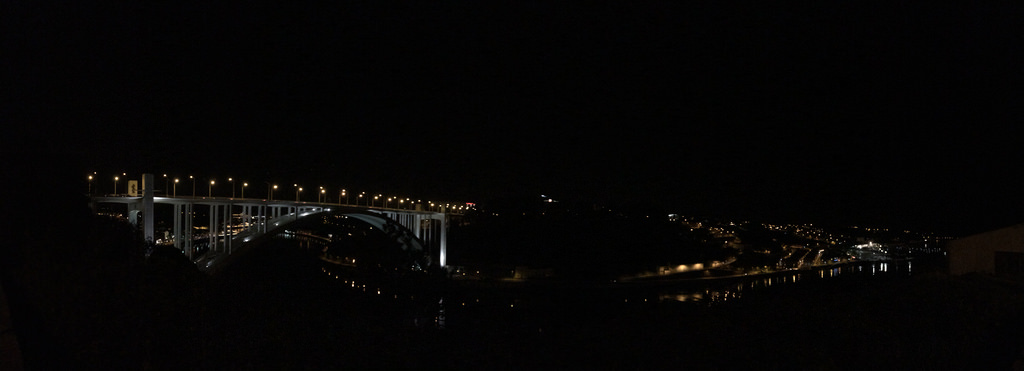arrabida: (92, 179, 469, 269)
